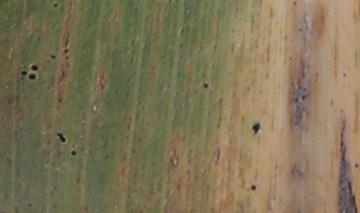tarspot: (250, 120, 262, 135), (54, 131, 67, 143), (27, 62, 42, 72), (27, 71, 39, 81), (301, 93, 311, 102), (19, 69, 29, 77), (47, 53, 57, 61), (249, 183, 257, 192), (201, 81, 209, 90), (69, 148, 77, 157), (287, 54, 295, 63), (56, 95, 64, 104), (52, 1, 60, 9), (62, 47, 70, 55), (296, 25, 304, 33), (353, 161, 360, 170), (341, 70, 348, 79), (177, 41, 184, 48), (179, 26, 185, 34), (26, 201, 33, 207), (63, 54, 70, 60), (291, 1, 297, 7), (166, 1, 173, 6)
